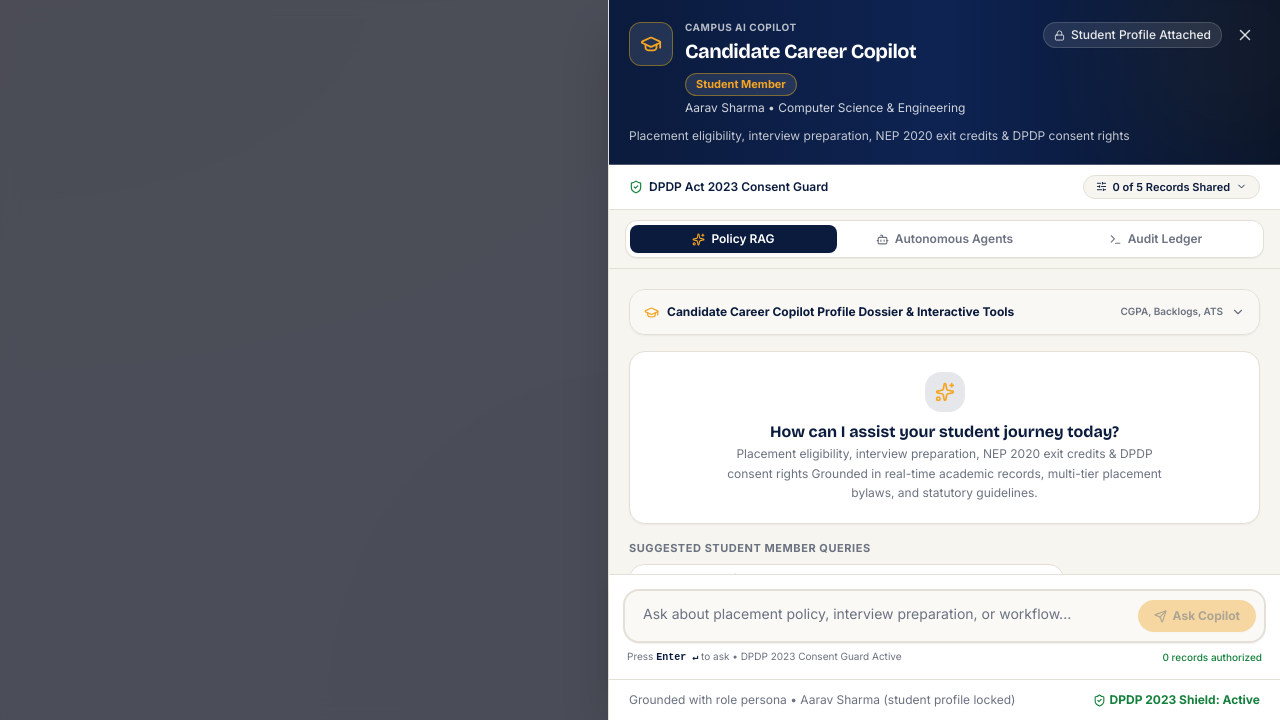
Scenario: Role-Based & User-Specific Copilot Architecture › restricts autonomous agents to student-authorized tools (Academic Advisor & Superday)
The width and height of the screenshot is (1280, 720).
Click the button "Autonomous Agents".
click(944, 239)  # box [841,225,1048,253]
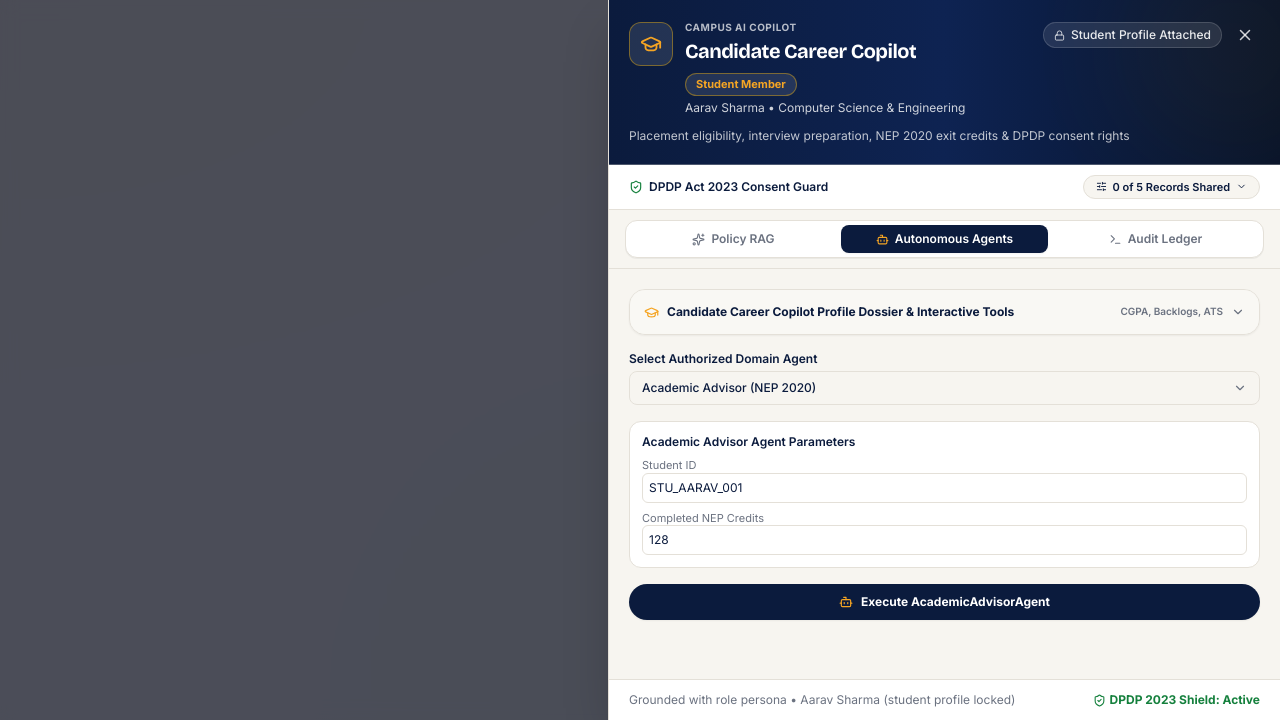
Now the field showing "STU_AARAV_001" is shown, box [642,473,1247,503]
